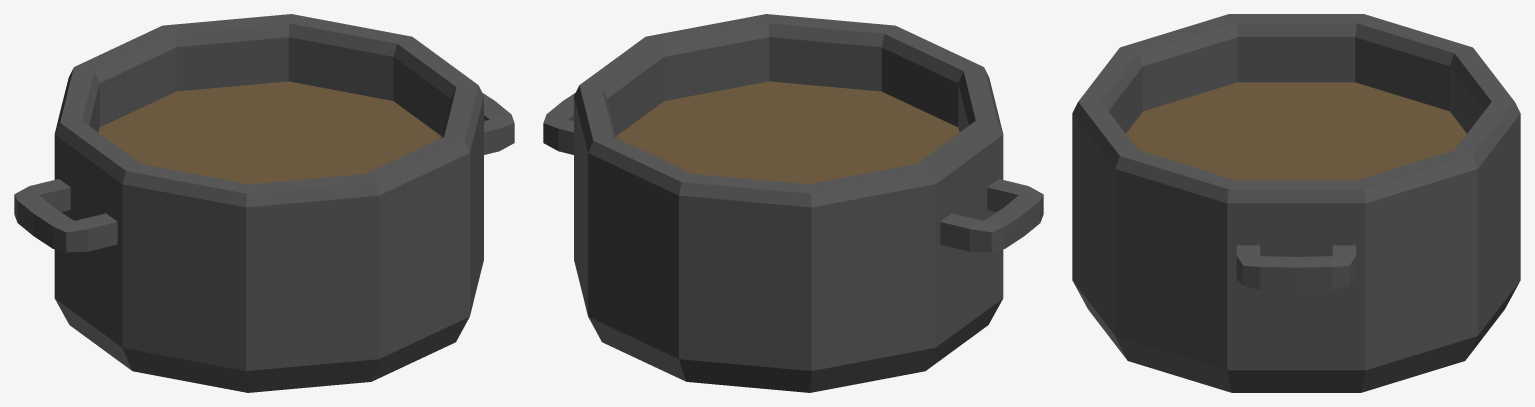
File: CookingPot_Soup.glb
The picture shows the model from 3 angles, left to right: view 1: azimuth 30°, elevation 25°; view 2: azimuth 150°, elevation 25°; view 3: azimuth 270°, elevation 25°; orthographic projection. The views are drawn at different scales.
Parts seen in each view (by area): view 1: CookingPot_Soup; view 2: CookingPot_Soup; view 3: CookingPot_Soup.
Boxes of the visible parts, box(x1,y1,x2,y2) form: CookingPot_Soup: box(14, 14, 514, 392); CookingPot_Soup: box(543, 14, 1043, 392); CookingPot_Soup: box(1072, 14, 1520, 392).
Size of the model in its own units: 2.42 by 1.08 by 1.99.
